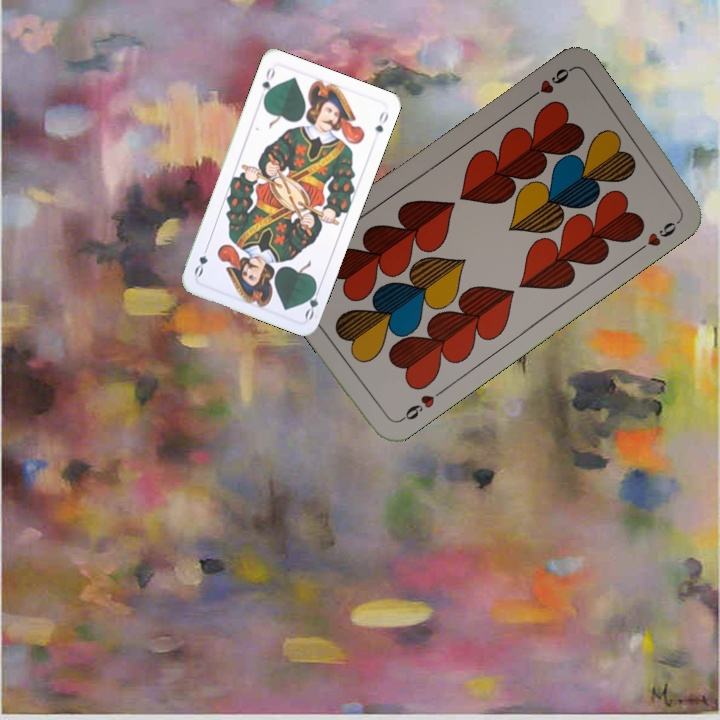GO: (301, 281, 323, 322), (258, 64, 278, 103)
H9: (522, 64, 574, 104), (395, 385, 446, 425)
